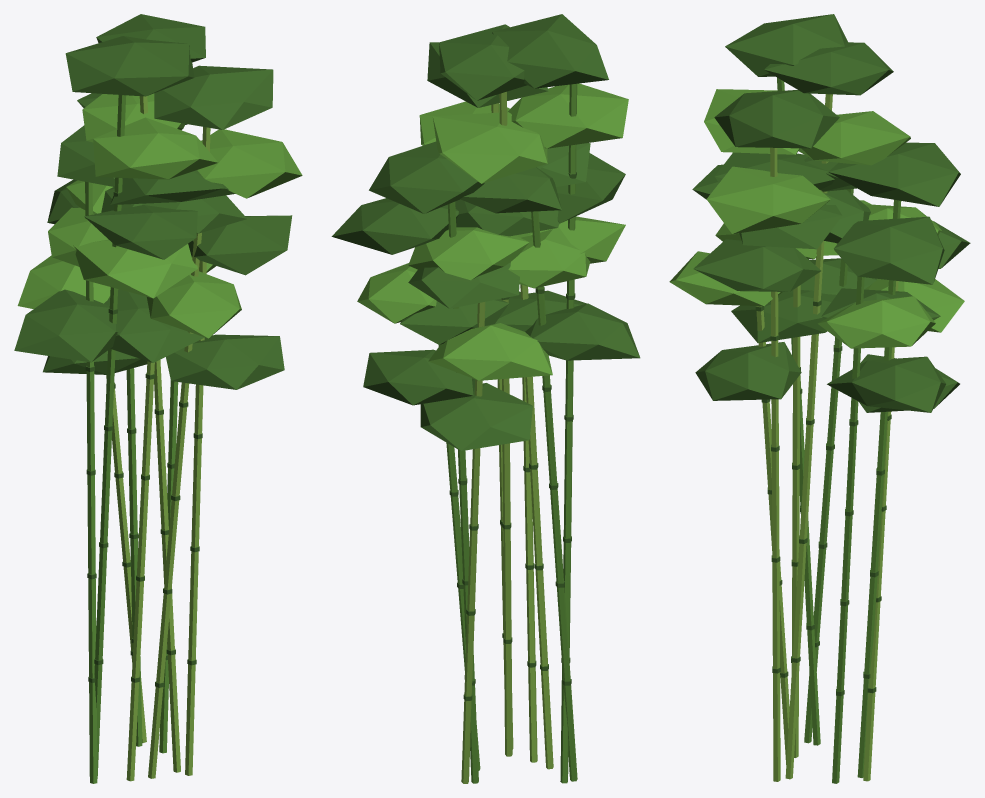
Rendered from bambu_2.glb.
3 views of the same model, side by side, from view 1: azimuth 30°, elevation 25°; view 2: azimuth 150°, elevation 25°; view 3: azimuth 270°, elevation 25° (orthographic).
Visible parts, largest first — view 1: bambu_2; view 2: bambu_2; view 3: bambu_2.
Part boxes in pixels (x1,y1,x2,y2): bambu_2: (14, 14, 302, 783); bambu_2: (331, 14, 640, 783); bambu_2: (669, 14, 970, 783).
Size of the model in its own units: 5.1 by 14.2 by 5.28.
